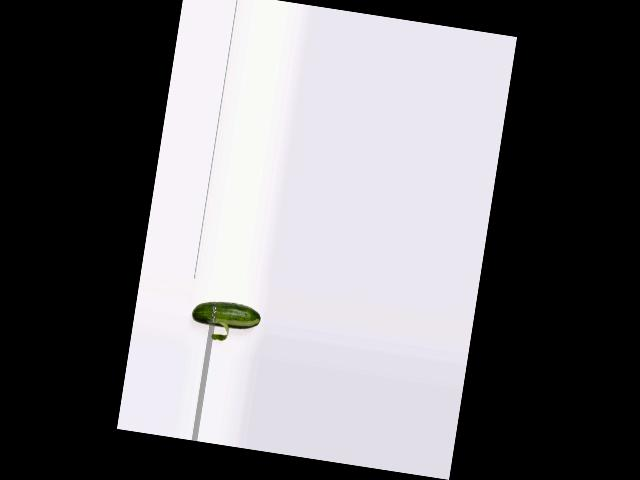cucumber: (190, 297, 262, 333)
